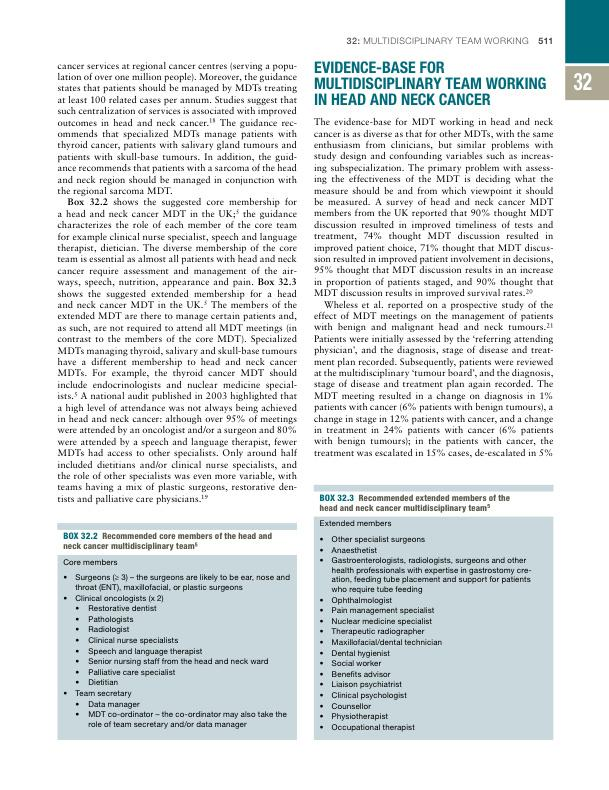caption: (62, 531, 273, 552), (319, 493, 511, 514)
header: (345, 35, 529, 46)
list: (318, 535, 533, 734), (62, 572, 292, 730)
section-heading: (312, 58, 547, 107)
text: (55, 60, 298, 506), (313, 115, 555, 459), (319, 519, 392, 527), (62, 558, 118, 566)
